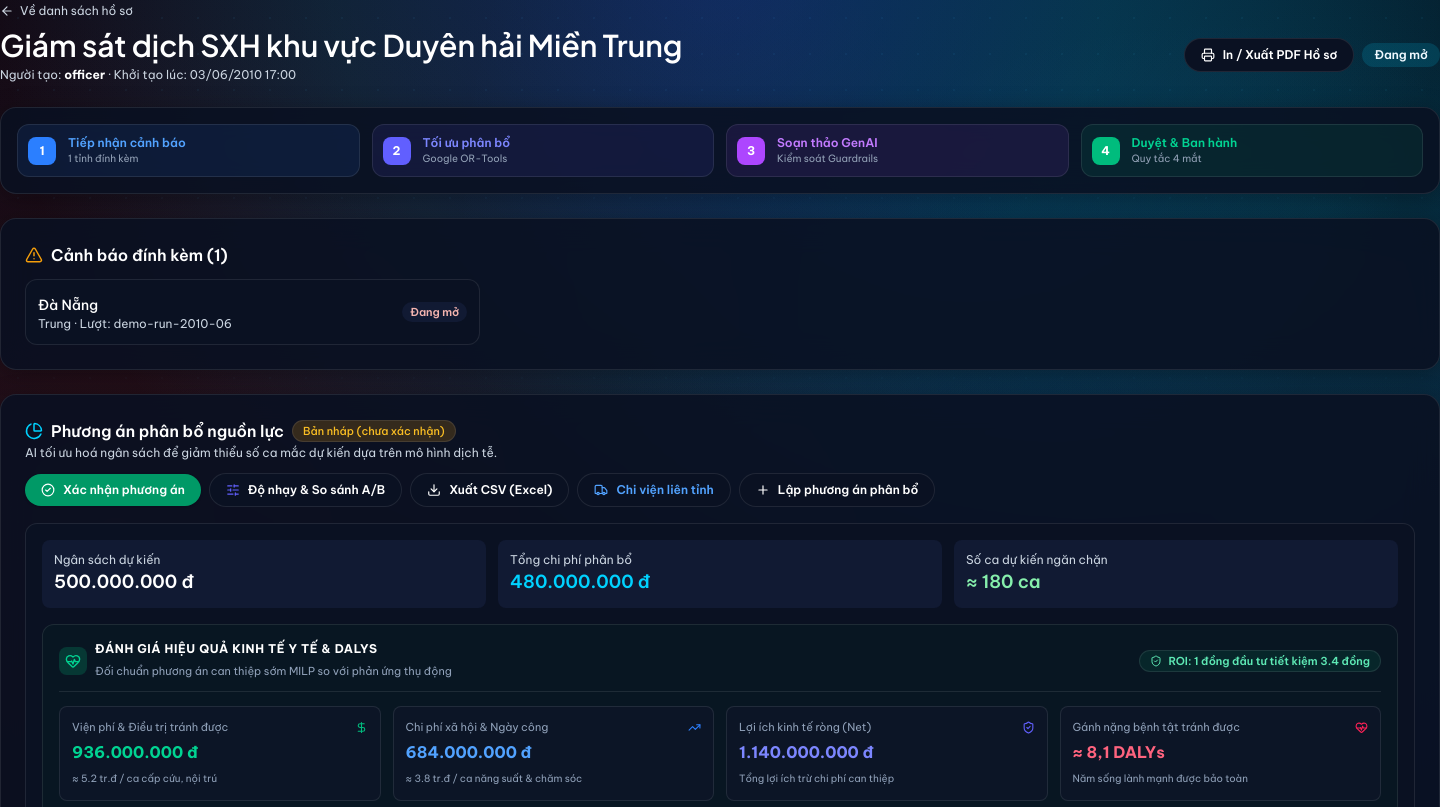
Scenario: CaseDetailPage (S7 Chi tiết hồ sơ & S8 Phân bổ nguồn lực) › cho phép officer xác nhận phương án phân bổ từ giao diện
Check: the text "Bản nháp (chưa xác nhận)" is shown, box [292,420,456,442]
What coordinates should you click on to do the following:
click the button "Xác nhận phương án"
I would click on:
 (113, 490)
Its box is [25,474,201,506].
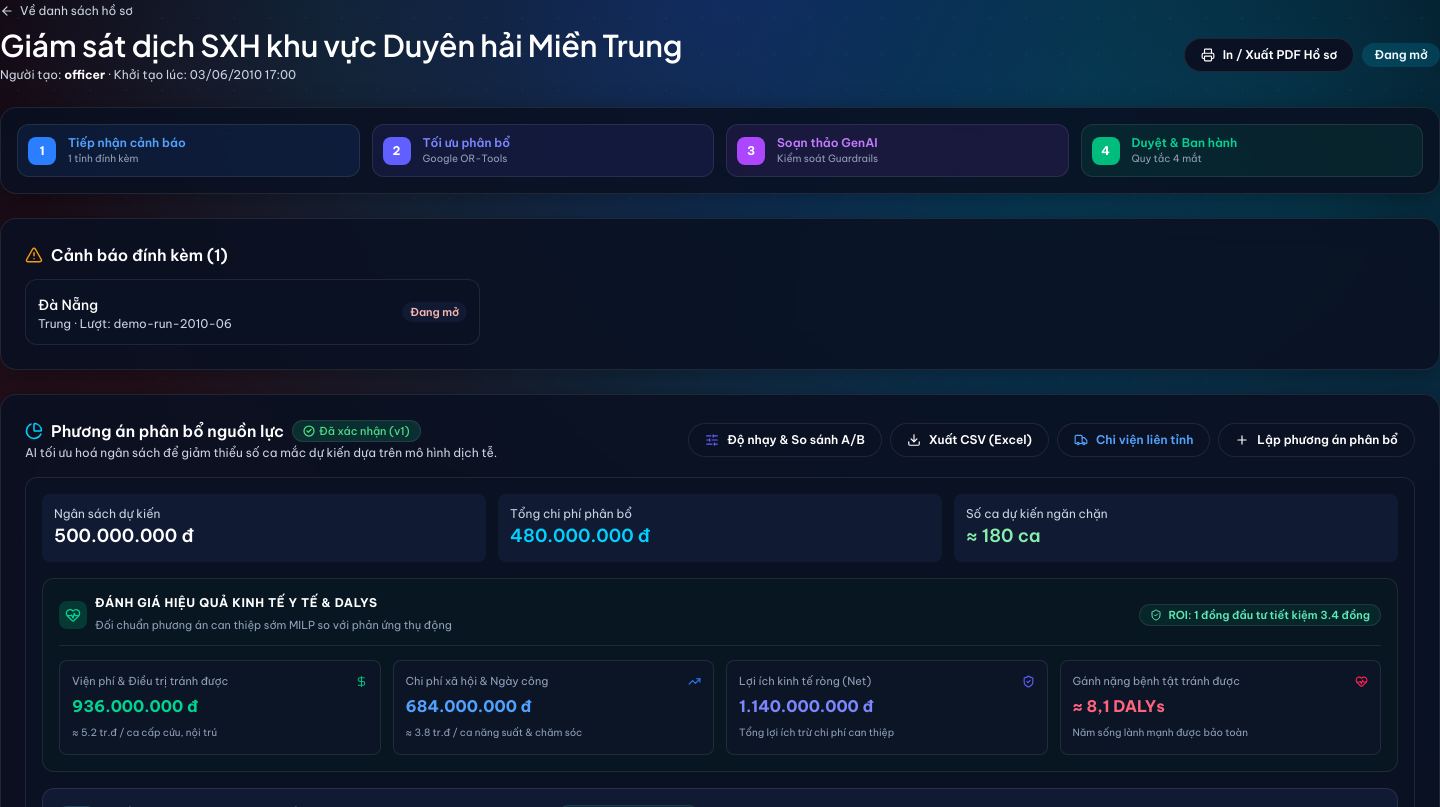
Check: the text "Đã xác nhận (v1)" is shown, box [292,420,421,442]
